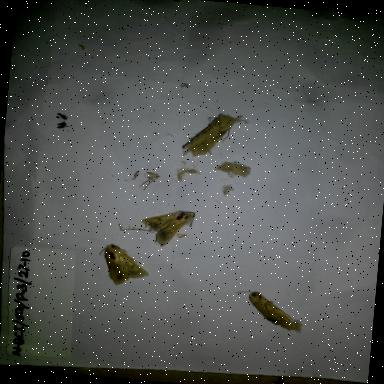abw: (177, 106, 247, 166), (228, 286, 308, 338), (132, 204, 201, 256), (92, 240, 156, 292)
